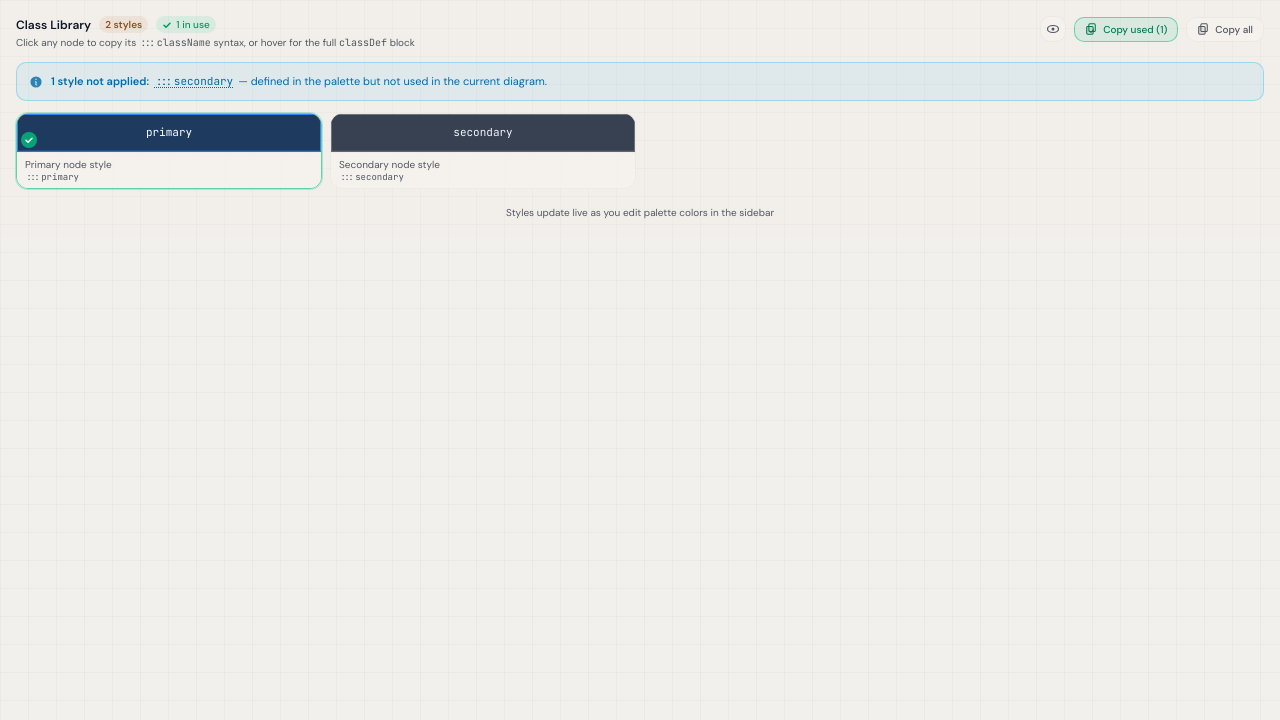
Test case: ClassBrowser — All / Used preview panel toggle › opening the preview with usedClassNames defaults to 'used' mode
Click the button named "Preview all classDefs": (1053, 29) left=1040, top=16, right=1066, bottom=42
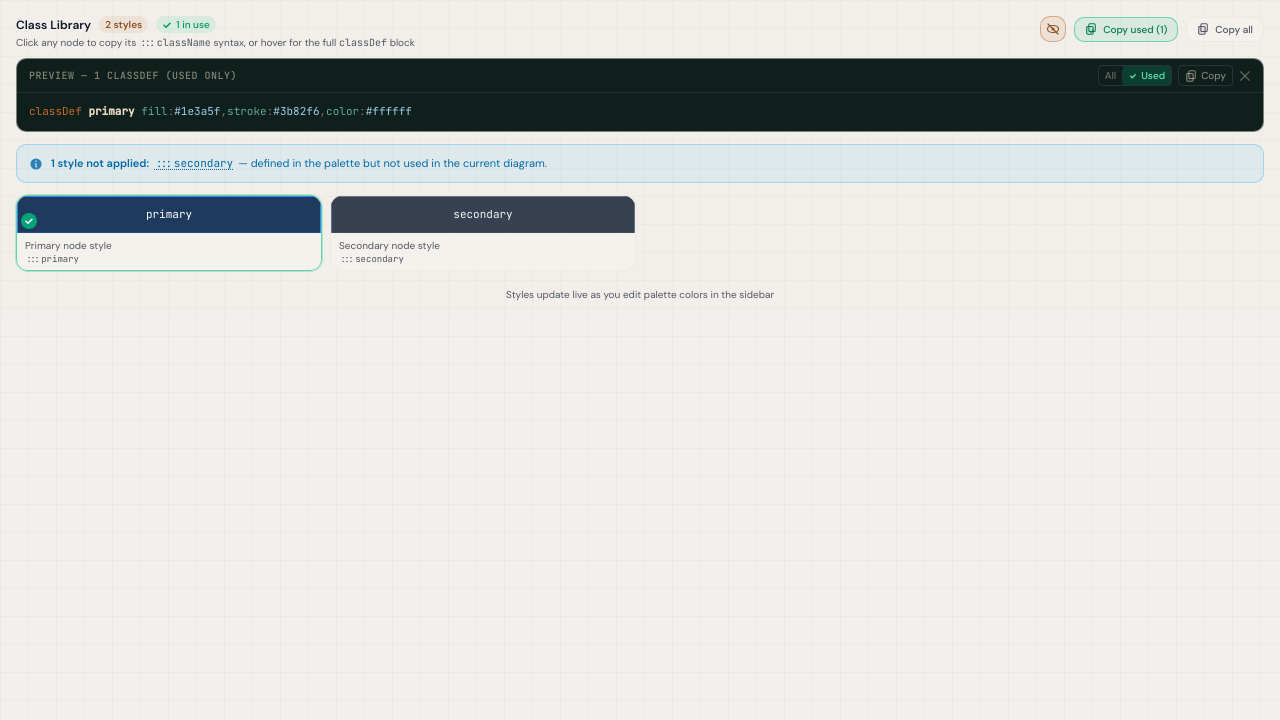
expect the text "secondary" is not shown: met
expect the element showing "classDef primary fill:#1e3a5f,stroke:#3b82f6,color:#ffffff" is shown: met, box left=29, top=104, right=412, bottom=118
